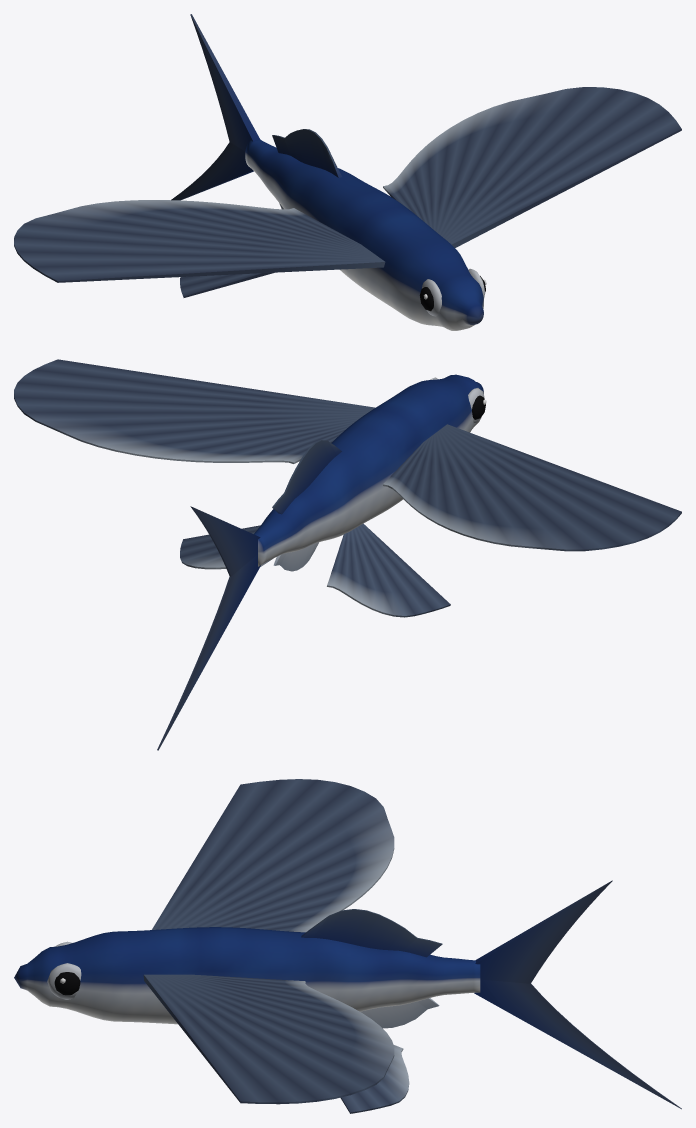
Rendered from FlyingFish.fbx.
3 views of the same model, one above another, from view 1: azimuth 30°, elevation 25°; view 2: azimuth 150°, elevation 25°; view 3: azimuth 270°, elevation 25° (orthographic). The views are drawn at different scales.
Parts seen in each view (by area): view 1: FlyingFish; view 2: FlyingFish; view 3: FlyingFish.
Part boxes in pixels (x1,y1,x2,y2): FlyingFish: [14, 14, 681, 330]; FlyingFish: [14, 359, 681, 750]; FlyingFish: [14, 779, 681, 1113].
Size of the model in its own units: 1.21 by 0.4 by 1.06.
